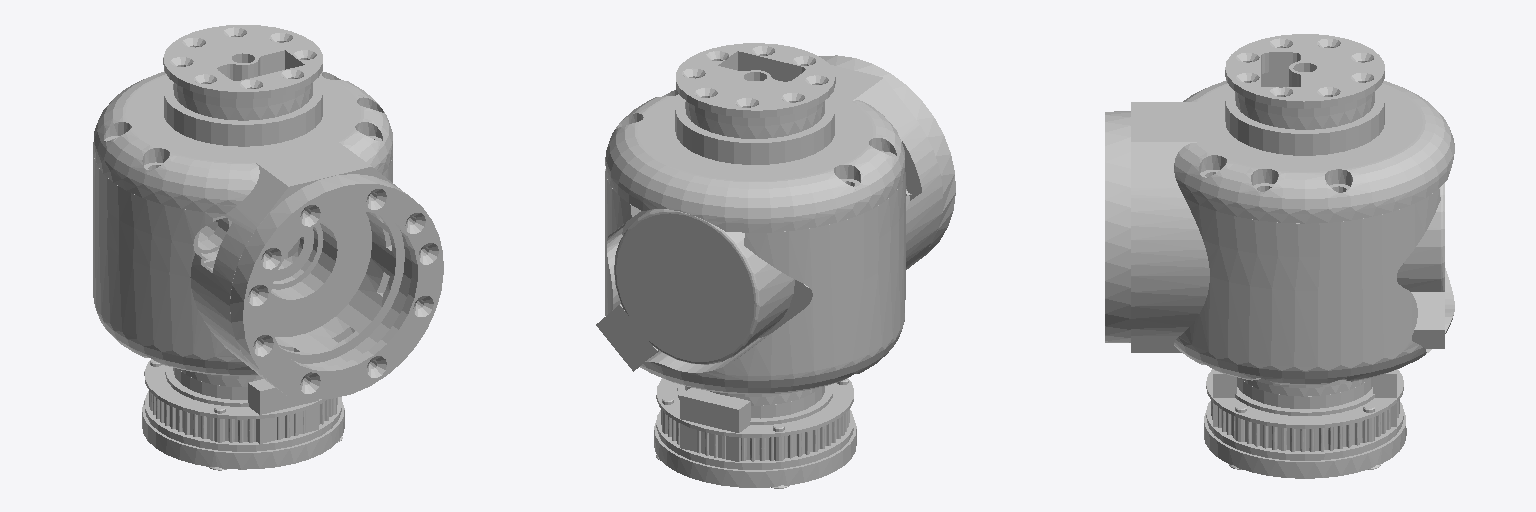
3 views of the same model, side by side, from view 1: azimuth 30°, elevation 25°; view 2: azimuth 150°, elevation 25°; view 3: azimuth 270°, elevation 25° (orthographic).
Parts seen in each view (by area): view 1: V_WristRot.001; view 2: V_WristRot.001; view 3: V_WristRot.001.
Boxes of the visible parts, <box> form: V_WristRot.001: <box>93,25,443,470</box>; V_WristRot.001: <box>596,43,955,488</box>; V_WristRot.001: <box>1105,34,1454,478</box>.
Size of the model in its own units: 7.5 by 10.38 by 8.74.